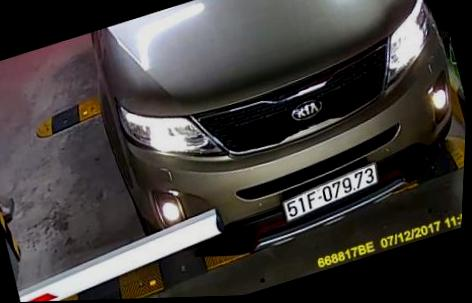License_Plate: (280, 161, 381, 223)
